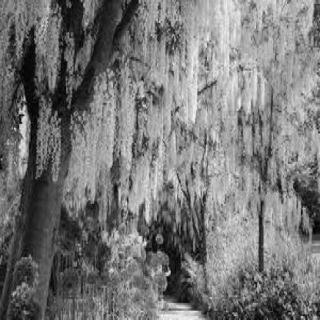other: (2, 2, 316, 240)
